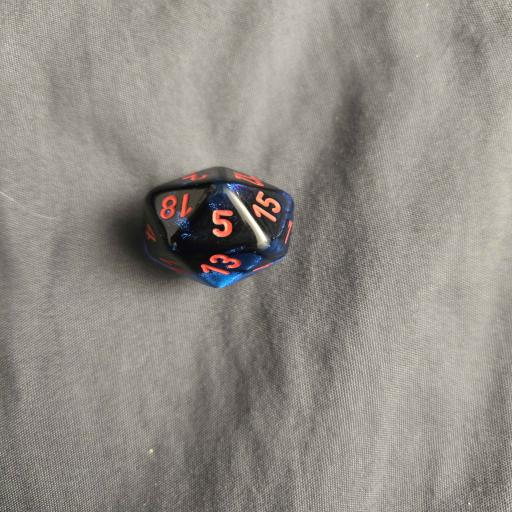twenty sided dice: (143, 166, 294, 288)
